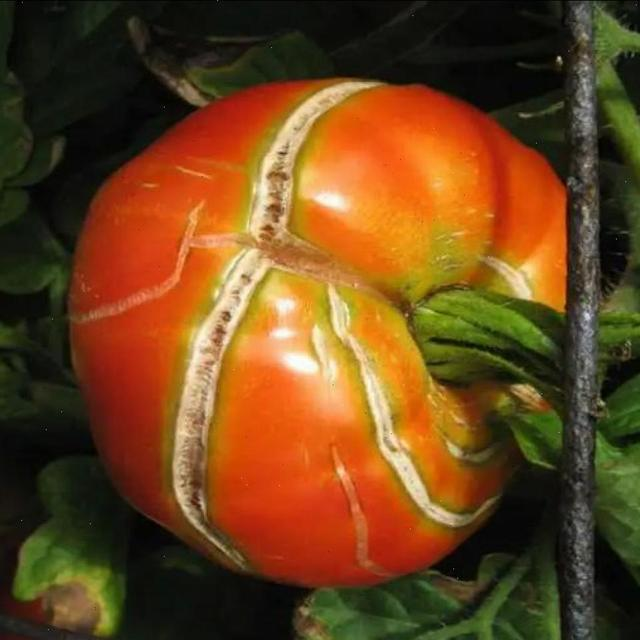Cracking Fruit: (156, 221, 292, 341)
